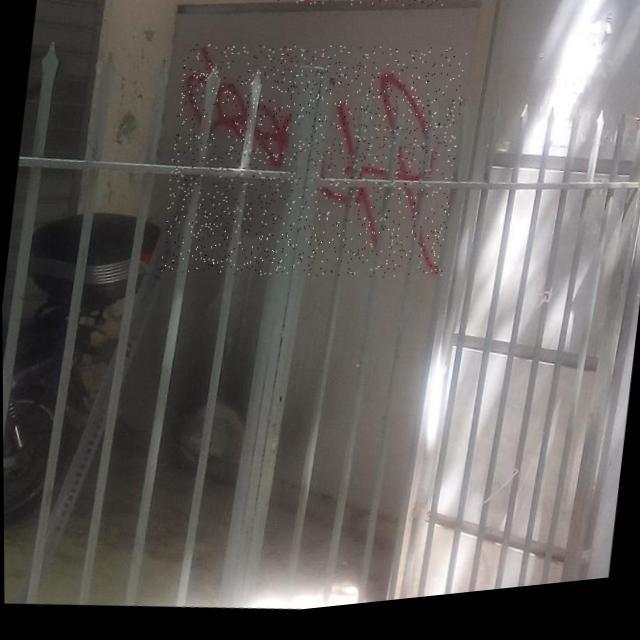-: (156, 23, 468, 310), (276, 0, 454, 30)
